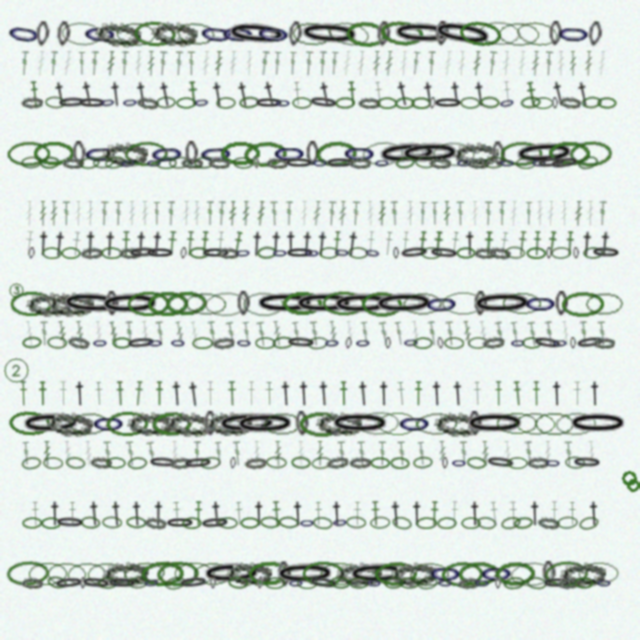chain: (430, 17, 495, 51), (225, 19, 288, 49), (376, 139, 439, 168), (513, 139, 576, 168), (298, 20, 361, 48), (391, 20, 454, 47), (60, 290, 123, 317), (399, 140, 461, 167), (373, 290, 435, 317), (471, 290, 533, 317), (20, 410, 82, 437), (216, 410, 278, 437), (201, 560, 263, 587), (99, 291, 161, 317), (331, 291, 393, 317), (234, 411, 296, 437), (274, 561, 336, 587), (347, 561, 409, 587), (254, 291, 316, 316), (293, 291, 355, 316), (329, 411, 391, 436), (464, 411, 526, 436), (567, 411, 629, 436), (326, 18, 371, 50), (514, 18, 560, 49), (458, 19, 503, 49), (94, 20, 142, 48), (390, 560, 437, 588), (379, 19, 424, 48), (151, 20, 198, 47), (102, 560, 149, 587), (509, 560, 554, 588), (60, 20, 104, 48), (243, 140, 287, 168), (166, 411, 213, 437), (544, 560, 589, 587), (345, 20, 388, 48), (102, 141, 148, 167), (453, 141, 499, 167), (26, 291, 72, 317), (48, 291, 94, 317), (47, 411, 93, 437), (434, 411, 480, 437), (336, 561, 382, 587), (560, 561, 606, 587), (477, 20, 521, 47), (361, 140, 405, 167), (569, 140, 613, 167), (8, 410, 52, 437), (356, 410, 400, 437), (6, 560, 50, 587), (122, 560, 166, 587), (140, 560, 184, 587), (156, 560, 200, 587), (175, 20, 217, 48), (133, 20, 176, 47), (290, 20, 333, 47), (315, 140, 358, 167), (165, 290, 208, 317), (247, 560, 290, 587), (127, 411, 173, 436), (206, 411, 252, 436), (316, 411, 362, 436), (226, 561, 272, 586), (124, 141, 168, 167), (204, 291, 248, 317), (5, 19, 43, 49), (497, 21, 540, 47), (7, 141, 50, 167), (432, 141, 475, 167), (500, 141, 543, 167), (184, 291, 227, 317), (242, 291, 285, 317), (401, 291, 444, 317), (561, 291, 604, 317), (67, 411, 110, 437), (299, 411, 342, 437), (415, 411, 458, 437), (514, 411, 557, 437), (554, 411, 597, 437), (374, 561, 417, 587), (408, 561, 451, 587), (115, 21, 157, 47), (361, 291, 403, 317), (151, 411, 193, 437), (46, 561, 88, 587), (66, 561, 108, 587), (86, 561, 128, 587), (441, 561, 483, 587), (458, 561, 500, 587), (127, 291, 170, 316), (322, 291, 365, 316), (441, 291, 484, 316), (106, 411, 149, 436), (495, 411, 538, 436), (173, 561, 216, 586), (577, 561, 620, 586), (584, 291, 625, 317), (262, 411, 303, 437), (495, 561, 536, 587), (33, 141, 75, 166), (548, 141, 590, 166), (10, 291, 52, 316), (147, 291, 189, 316), (501, 291, 543, 316), (376, 411, 418, 436), (533, 411, 575, 436), (27, 561, 69, 586), (192, 561, 234, 586), (302, 561, 344, 586), (319, 561, 361, 586), (198, 20, 235, 48), (255, 20, 292, 48), (220, 141, 261, 166), (282, 291, 323, 316), (82, 21, 118, 47), (220, 21, 256, 47), (149, 141, 185, 167), (198, 141, 234, 167), (556, 21, 591, 47), (83, 141, 118, 167), (424, 291, 459, 317), (272, 141, 307, 166), (342, 141, 377, 166), (523, 291, 558, 316), (91, 411, 126, 436), (397, 411, 432, 436), (428, 561, 463, 586), (479, 561, 514, 586), (549, 155, 580, 171), (532, 335, 563, 351), (308, 575, 339, 591), (308, 95, 339, 110), (536, 155, 567, 170), (399, 245, 430, 260), (575, 335, 606, 350), (485, 455, 516, 470), (178, 575, 209, 590), (429, 246, 459, 260), (126, 336, 156, 350), (183, 456, 213, 470), (200, 516, 230, 530), (54, 576, 84, 590), (81, 576, 111, 590), (287, 21, 303, 47), (587, 21, 603, 47), (35, 21, 50, 47), (56, 21, 71, 47), (376, 21, 391, 47), (57, 96, 87, 109), (491, 141, 506, 167), (128, 246, 158, 259), (591, 246, 621, 259), (286, 336, 316, 349), (148, 456, 178, 469), (572, 456, 602, 469), (55, 516, 85, 529), (277, 561, 292, 587), (577, 154, 599, 171), (164, 575, 187, 591), (77, 97, 107, 109), (254, 97, 284, 109), (433, 97, 463, 109), (284, 157, 314, 169), (325, 157, 355, 169), (145, 247, 175, 259), (201, 247, 231, 259), (285, 247, 315, 259), (165, 517, 195, 529), (107, 577, 137, 589), (542, 577, 572, 589), (391, 515, 413, 531), (500, 515, 522, 531), (578, 515, 600, 531), (435, 21, 449, 46), (72, 141, 86, 166), (105, 291, 119, 316), (295, 411, 309, 436), (468, 411, 482, 436), (542, 561, 556, 586), (67, 335, 90, 350), (482, 335, 505, 350), (326, 455, 349, 470), (104, 155, 126, 170), (46, 575, 68, 590), (549, 21, 562, 46), (185, 141, 198, 166), (306, 141, 319, 166), (237, 291, 250, 316), (474, 291, 487, 316), (555, 291, 568, 316), (204, 411, 217, 436), (136, 96, 159, 110), (80, 246, 103, 260), (488, 246, 511, 260), (212, 336, 235, 350), (169, 456, 192, 470), (244, 456, 267, 470), (144, 516, 167, 530), (537, 516, 560, 530), (457, 576, 480, 590), (557, 576, 580, 590), (395, 155, 416, 170), (307, 336, 329, 350), (503, 576, 525, 590), (79, 156, 100, 170), (21, 456, 42, 470), (65, 456, 86, 470), (127, 456, 148, 470), (200, 456, 221, 470), (311, 456, 332, 470), (466, 456, 487, 470), (312, 516, 333, 530), (476, 516, 497, 530), (513, 516, 534, 530), (417, 576, 438, 590), (526, 576, 547, 590), (21, 96, 43, 109), (559, 96, 581, 109), (272, 336, 294, 349), (90, 456, 112, 469), (349, 456, 371, 469), (527, 456, 549, 469), (45, 96, 66, 109), (520, 96, 541, 109), (581, 96, 602, 109), (21, 156, 42, 169), (169, 156, 190, 169), (484, 156, 505, 169), (266, 456, 287, 469), (80, 516, 101, 529), (278, 516, 299, 529), (557, 516, 578, 529), (358, 97, 380, 109), (62, 157, 84, 169), (181, 157, 203, 169), (208, 157, 230, 169), (266, 157, 288, 169), (349, 157, 371, 169), (429, 157, 451, 169), (467, 157, 489, 169), (119, 247, 141, 259), (217, 247, 239, 259), (474, 247, 496, 259), (593, 337, 615, 349), (21, 577, 43, 589), (156, 96, 176, 109), (239, 96, 259, 109), (480, 96, 500, 109), (40, 156, 60, 169), (93, 156, 113, 169), (194, 156, 214, 169), (415, 156, 435, 169), (257, 246, 277, 259), (505, 246, 525, 259), (22, 336, 42, 349), (47, 336, 67, 349), (291, 456, 311, 469), (413, 456, 433, 469), (565, 456, 585, 469), (102, 516, 122, 529), (126, 516, 146, 529), (260, 516, 280, 529), (346, 516, 366, 529), (370, 516, 390, 529), (128, 576, 148, 589), (228, 576, 248, 589), (330, 576, 350, 589), (384, 576, 404, 589), (498, 96, 516, 110), (156, 157, 177, 169), (101, 247, 122, 259), (421, 247, 442, 259), (192, 337, 213, 349), (255, 337, 276, 349), (507, 457, 528, 469), (416, 517, 437, 529), (297, 577, 318, 589), (399, 577, 420, 589), (176, 97, 196, 109), (216, 97, 236, 109), (292, 97, 312, 109), (335, 97, 355, 109), (377, 97, 397, 109), (395, 97, 415, 109), (411, 97, 431, 109), (460, 97, 480, 109), (533, 97, 553, 109), (597, 97, 617, 109), (233, 157, 253, 169), (516, 157, 536, 169), (42, 247, 62, 259), (61, 247, 81, 259), (189, 247, 209, 259), (319, 247, 339, 259), (348, 247, 368, 259), (456, 247, 476, 259), (526, 247, 546, 259), (551, 247, 571, 259), (583, 247, 603, 259), (112, 337, 132, 349), (413, 337, 433, 349), (444, 337, 464, 349), (468, 337, 488, 349), (522, 337, 542, 349), (43, 457, 63, 469), (106, 457, 126, 469), (370, 457, 390, 469), (390, 457, 410, 469), (22, 517, 42, 529), (41, 517, 61, 529), (182, 517, 202, 529), (218, 517, 238, 529), (240, 517, 260, 529), (437, 517, 457, 529), (461, 517, 481, 529), (98, 577, 118, 589), (265, 577, 285, 589), (349, 577, 369, 589), (574, 577, 594, 589), (120, 156, 137, 170), (364, 246, 381, 260), (99, 96, 116, 109), (193, 96, 210, 109), (143, 576, 160, 589), (122, 96, 138, 109), (334, 246, 350, 259), (403, 336, 419, 349), (332, 516, 348, 529), (275, 97, 291, 109), (146, 157, 162, 169), (312, 157, 328, 169), (374, 157, 390, 169), (456, 157, 472, 169), (499, 157, 515, 169), (531, 157, 547, 169), (235, 247, 251, 259), (272, 247, 288, 259), (304, 247, 320, 259), (92, 337, 108, 349), (147, 337, 163, 349), (170, 337, 186, 349), (236, 337, 252, 349), (324, 337, 340, 349), (355, 337, 371, 349), (510, 337, 526, 349), (552, 337, 568, 349), (451, 457, 467, 469), (545, 457, 561, 469), (299, 517, 315, 529), (288, 577, 304, 589), (366, 577, 382, 589), (437, 577, 453, 589), (474, 577, 490, 589), (596, 577, 612, 589), (252, 156, 260, 169), (429, 97, 436, 109), (28, 247, 35, 259), (180, 247, 187, 259), (345, 337, 352, 349), (437, 337, 444, 349), (552, 97, 558, 109), (393, 247, 399, 259), (546, 247, 552, 259), (573, 247, 579, 259), (385, 337, 391, 349), (570, 337, 576, 349), (230, 457, 236, 469), (442, 457, 448, 469), (80, 577, 86, 589), (210, 577, 216, 589), (257, 577, 263, 589), (495, 577, 501, 589)
half_double: (79, 80, 97, 107), (261, 80, 279, 107), (394, 80, 412, 107), (550, 80, 568, 107), (52, 81, 69, 107), (157, 81, 174, 107), (235, 81, 252, 107), (317, 81, 334, 107), (575, 81, 592, 107), (51, 231, 68, 257), (344, 231, 361, 257), (108, 81, 124, 107), (134, 81, 150, 107), (210, 81, 226, 107), (421, 81, 437, 107), (448, 81, 464, 107), (472, 81, 488, 107), (102, 231, 118, 257), (133, 231, 149, 257), (149, 231, 165, 257), (249, 231, 265, 257), (268, 231, 284, 257), (299, 231, 315, 257), (314, 231, 330, 257), (579, 231, 595, 257), (597, 231, 613, 257), (186, 381, 202, 407), (36, 231, 51, 256), (83, 231, 98, 256), (356, 381, 371, 406), (87, 501, 102, 526), (109, 501, 124, 526), (151, 501, 166, 526), (209, 501, 224, 526), (284, 231, 298, 256), (463, 231, 477, 256), (73, 381, 87, 406), (170, 381, 184, 406), (279, 381, 293, 406), (297, 381, 311, 406), (317, 381, 331, 406), (377, 381, 391, 406), (430, 381, 444, 406), (451, 381, 465, 406), (550, 381, 564, 406), (588, 381, 602, 406), (48, 501, 62, 526), (130, 501, 144, 526), (252, 501, 266, 526), (291, 501, 305, 526), (330, 501, 344, 526), (389, 501, 403, 526), (410, 501, 424, 526), (468, 501, 482, 526), (528, 501, 542, 526), (587, 501, 601, 526), (525, 81, 538, 107), (231, 231, 244, 257), (70, 231, 82, 257), (498, 231, 510, 257), (187, 81, 199, 106), (373, 81, 385, 106), (23, 231, 35, 256), (166, 231, 178, 256), (432, 231, 444, 256), (449, 231, 461, 256), (516, 231, 528, 256), (546, 231, 558, 256), (395, 381, 407, 406), (29, 81, 40, 106), (292, 81, 303, 106), (502, 81, 513, 106), (199, 231, 210, 256), (215, 231, 226, 256), (383, 231, 394, 256), (400, 231, 411, 256), (417, 231, 428, 256), (483, 231, 494, 256), (133, 381, 144, 406), (512, 381, 523, 406), (171, 501, 182, 526), (271, 501, 282, 526), (370, 501, 381, 526), (489, 501, 500, 526), (347, 81, 357, 106), (121, 231, 131, 256), (185, 231, 195, 256), (332, 231, 342, 256), (366, 231, 376, 256), (532, 231, 542, 256), (565, 231, 575, 256), (58, 381, 68, 406), (94, 381, 104, 406), (115, 381, 125, 406), (227, 381, 237, 406), (264, 381, 274, 406), (572, 381, 582, 406), (234, 501, 244, 526), (508, 501, 518, 526), (19, 381, 28, 406), (38, 381, 47, 406), (155, 381, 164, 406), (206, 381, 215, 406), (247, 381, 256, 406), (339, 381, 348, 406), (414, 381, 423, 406), (473, 381, 482, 406), (494, 381, 503, 406), (532, 381, 541, 406), (31, 501, 40, 526), (68, 501, 77, 526), (194, 501, 203, 526), (314, 501, 323, 526), (353, 501, 362, 526), (430, 501, 439, 526), (450, 501, 459, 526), (550, 501, 559, 526), (568, 501, 577, 526)
noise: (2, 356, 30, 384), (620, 469, 638, 487), (7, 281, 25, 299), (625, 477, 640, 494)
treble: (225, 321, 238, 347), (378, 321, 391, 347), (108, 321, 120, 347), (174, 321, 186, 347), (189, 321, 201, 347), (256, 321, 268, 347), (494, 321, 506, 347), (527, 321, 539, 347), (146, 441, 158, 467), (291, 321, 303, 346), (309, 321, 321, 346), (125, 441, 137, 466), (62, 51, 73, 76), (259, 51, 270, 76), (487, 51, 498, 76), (24, 321, 35, 346), (57, 321, 68, 346), (155, 321, 166, 346), (207, 321, 218, 346), (272, 321, 283, 346), (328, 321, 339, 346), (360, 321, 371, 346), (394, 321, 405, 346), (410, 321, 421, 346), (427, 321, 438, 346), (445, 321, 456, 346), (462, 321, 473, 346), (478, 321, 489, 346), (510, 321, 521, 346), (544, 321, 555, 346), (560, 321, 571, 346), (597, 321, 608, 346), (232, 441, 243, 466), (36, 51, 46, 76), (106, 51, 116, 76), (158, 51, 168, 76), (174, 51, 184, 76), (201, 51, 211, 76), (228, 51, 238, 76), (304, 51, 314, 76), (342, 51, 352, 76), (356, 51, 366, 76), (384, 51, 394, 76), (411, 51, 421, 76), (443, 51, 453, 76), (472, 51, 482, 76), (501, 51, 511, 76), (517, 51, 527, 76), (544, 51, 554, 76), (597, 51, 607, 76), (256, 201, 266, 226), (312, 201, 322, 226), (327, 201, 337, 226), (351, 201, 361, 226), (75, 321, 85, 346), (94, 321, 104, 346), (140, 321, 150, 346), (242, 321, 252, 346), (345, 321, 355, 346), (579, 321, 589, 346), (63, 441, 73, 466), (103, 441, 113, 466), (214, 441, 224, 466), (337, 441, 347, 466), (357, 441, 367, 466), (397, 441, 407, 466), (417, 441, 427, 466), (459, 441, 469, 466), (524, 441, 534, 466), (564, 441, 574, 466), (20, 51, 29, 76), (49, 51, 58, 76), (90, 51, 99, 76), (120, 51, 129, 76), (134, 51, 143, 76), (187, 51, 196, 76), (214, 51, 223, 76), (273, 51, 282, 76), (318, 51, 327, 76), (330, 51, 339, 76), (372, 51, 381, 76), (399, 51, 408, 76), (427, 51, 436, 76), (457, 51, 466, 76), (531, 51, 540, 76), (584, 51, 593, 76), (62, 201, 71, 226), (100, 201, 109, 226), (114, 201, 123, 226), (217, 201, 226, 226), (228, 201, 237, 226), (270, 201, 279, 226), (338, 201, 347, 226), (366, 201, 375, 226), (390, 201, 399, 226), (456, 201, 465, 226), (484, 201, 493, 226), (509, 201, 518, 226), (546, 201, 555, 226), (574, 201, 583, 226), (598, 201, 607, 226), (40, 321, 49, 346), (125, 321, 134, 346), (22, 441, 31, 466), (84, 441, 93, 466), (378, 441, 387, 466), (438, 441, 447, 466), (481, 441, 490, 466), (503, 441, 512, 466), (587, 441, 596, 466), (78, 51, 86, 76), (147, 51, 155, 76), (245, 51, 253, 76), (289, 51, 297, 76), (557, 51, 565, 76), (569, 51, 577, 76), (25, 201, 33, 226), (39, 201, 47, 226), (50, 201, 58, 226), (74, 201, 82, 226), (86, 201, 94, 226), (128, 201, 136, 226), (141, 201, 149, 226), (153, 201, 161, 226), (167, 201, 175, 226), (182, 201, 190, 226), (193, 201, 201, 226), (206, 201, 214, 226), (242, 201, 250, 226), (285, 201, 293, 226), (300, 201, 308, 226), (378, 201, 386, 226), (406, 201, 414, 226), (419, 201, 427, 226), (431, 201, 439, 226), (443, 201, 451, 226), (471, 201, 479, 226), (498, 201, 506, 226), (525, 201, 533, 226), (536, 201, 544, 226), (560, 201, 568, 226), (586, 201, 594, 226), (43, 441, 51, 466), (171, 441, 179, 466), (193, 441, 201, 466), (253, 441, 261, 466), (274, 441, 282, 466), (297, 441, 305, 466), (316, 441, 324, 466), (544, 441, 552, 466)
